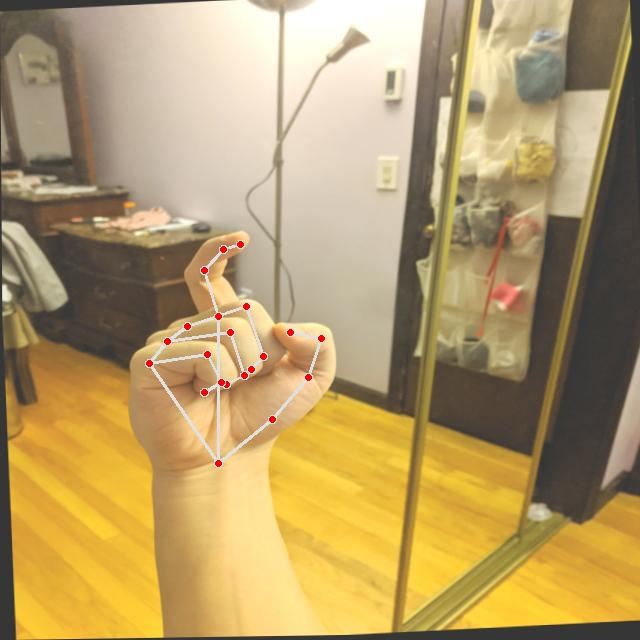X: (116, 223, 345, 479)
